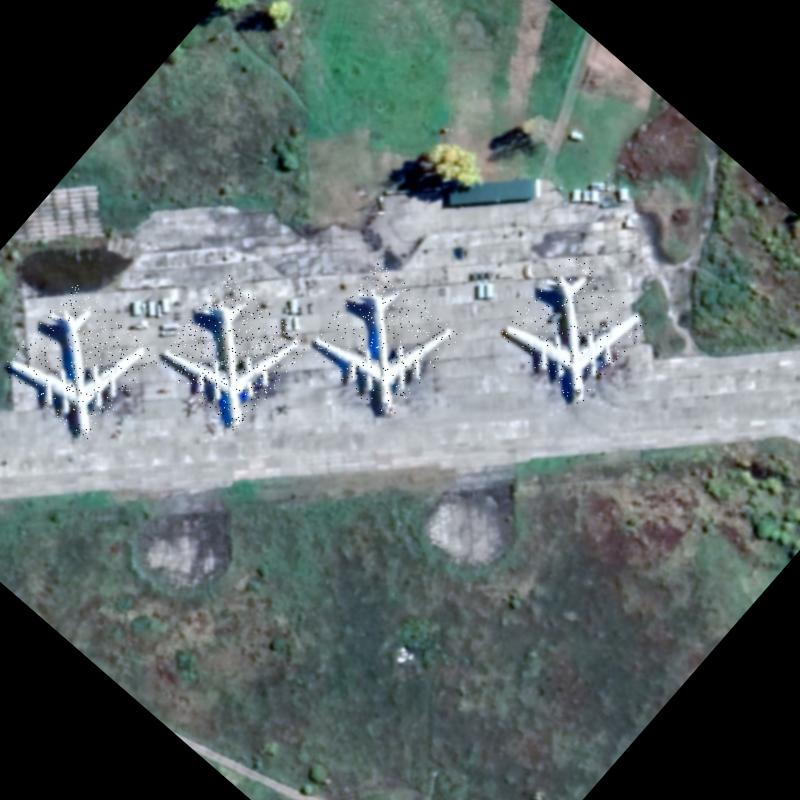A17: (302, 261, 464, 422), (0, 282, 159, 443), (153, 274, 311, 434), (496, 250, 653, 407)
